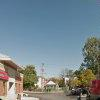Tree: (76, 26, 100, 94)
